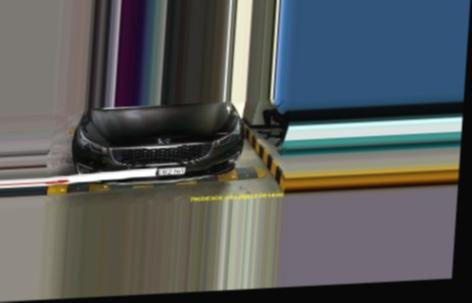License_Plate: (145, 166, 186, 177)
